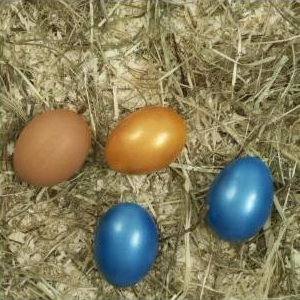egg: (14, 109, 93, 188), (207, 157, 275, 243), (94, 204, 160, 290), (105, 105, 187, 174)
